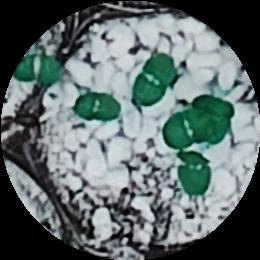Basil: (130, 52, 172, 107), (170, 150, 210, 198), (68, 90, 123, 123), (160, 112, 207, 149), (197, 94, 233, 140), (18, 57, 64, 86)
